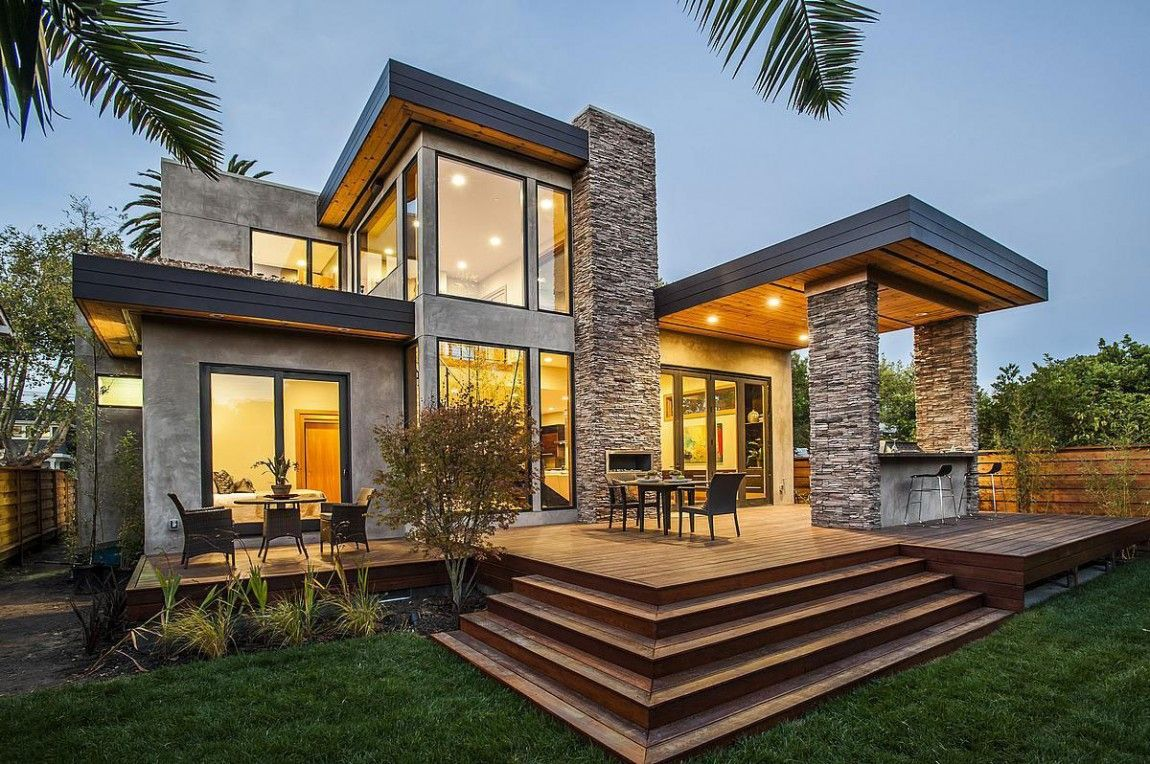Building House: (79, 68, 1052, 591)
